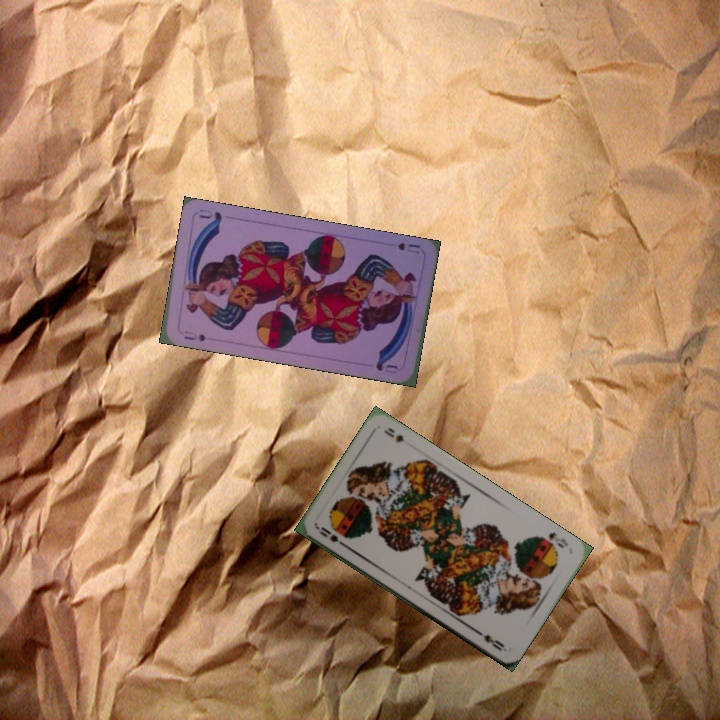SO: (313, 523, 350, 550), (534, 528, 571, 551)
SU: (392, 239, 423, 256), (180, 326, 208, 344)
